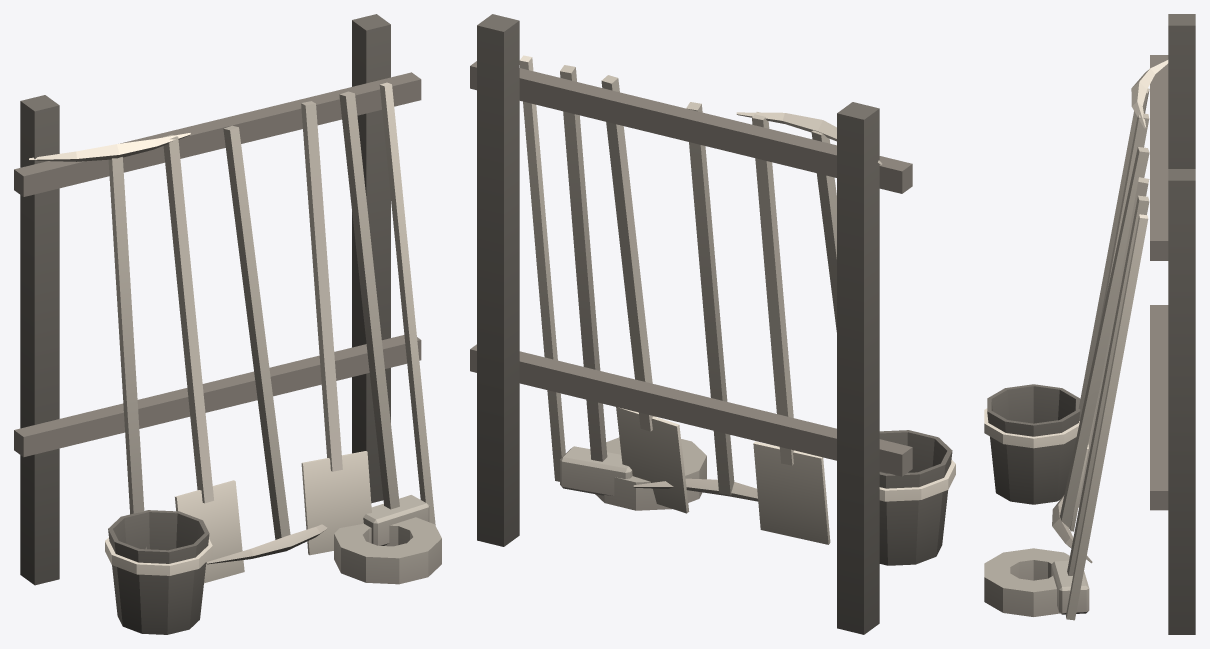
Rendered from SM_VKI_Prop_Mine_ToolRack.fbx.
3 views of the same model, side by side, from view 1: azimuth 30°, elevation 25°; view 2: azimuth 150°, elevation 25°; view 3: azimuth 270°, elevation 25° (orthographic). The views are drawn at different scales.
Visible parts, largest first — view 1: SM_VKI_Prop_Mine_ToolRack.001; view 2: SM_VKI_Prop_Mine_ToolRack.001; view 3: SM_VKI_Prop_Mine_ToolRack.001.
Boxes of the visible parts, bbox=[...] form: SM_VKI_Prop_Mine_ToolRack.001: bbox=[14, 14, 441, 634]; SM_VKI_Prop_Mine_ToolRack.001: bbox=[470, 14, 955, 634]; SM_VKI_Prop_Mine_ToolRack.001: bbox=[984, 14, 1195, 634].
Bounding box in the file's own units: 1.44 × 1.64 × 0.6917.
